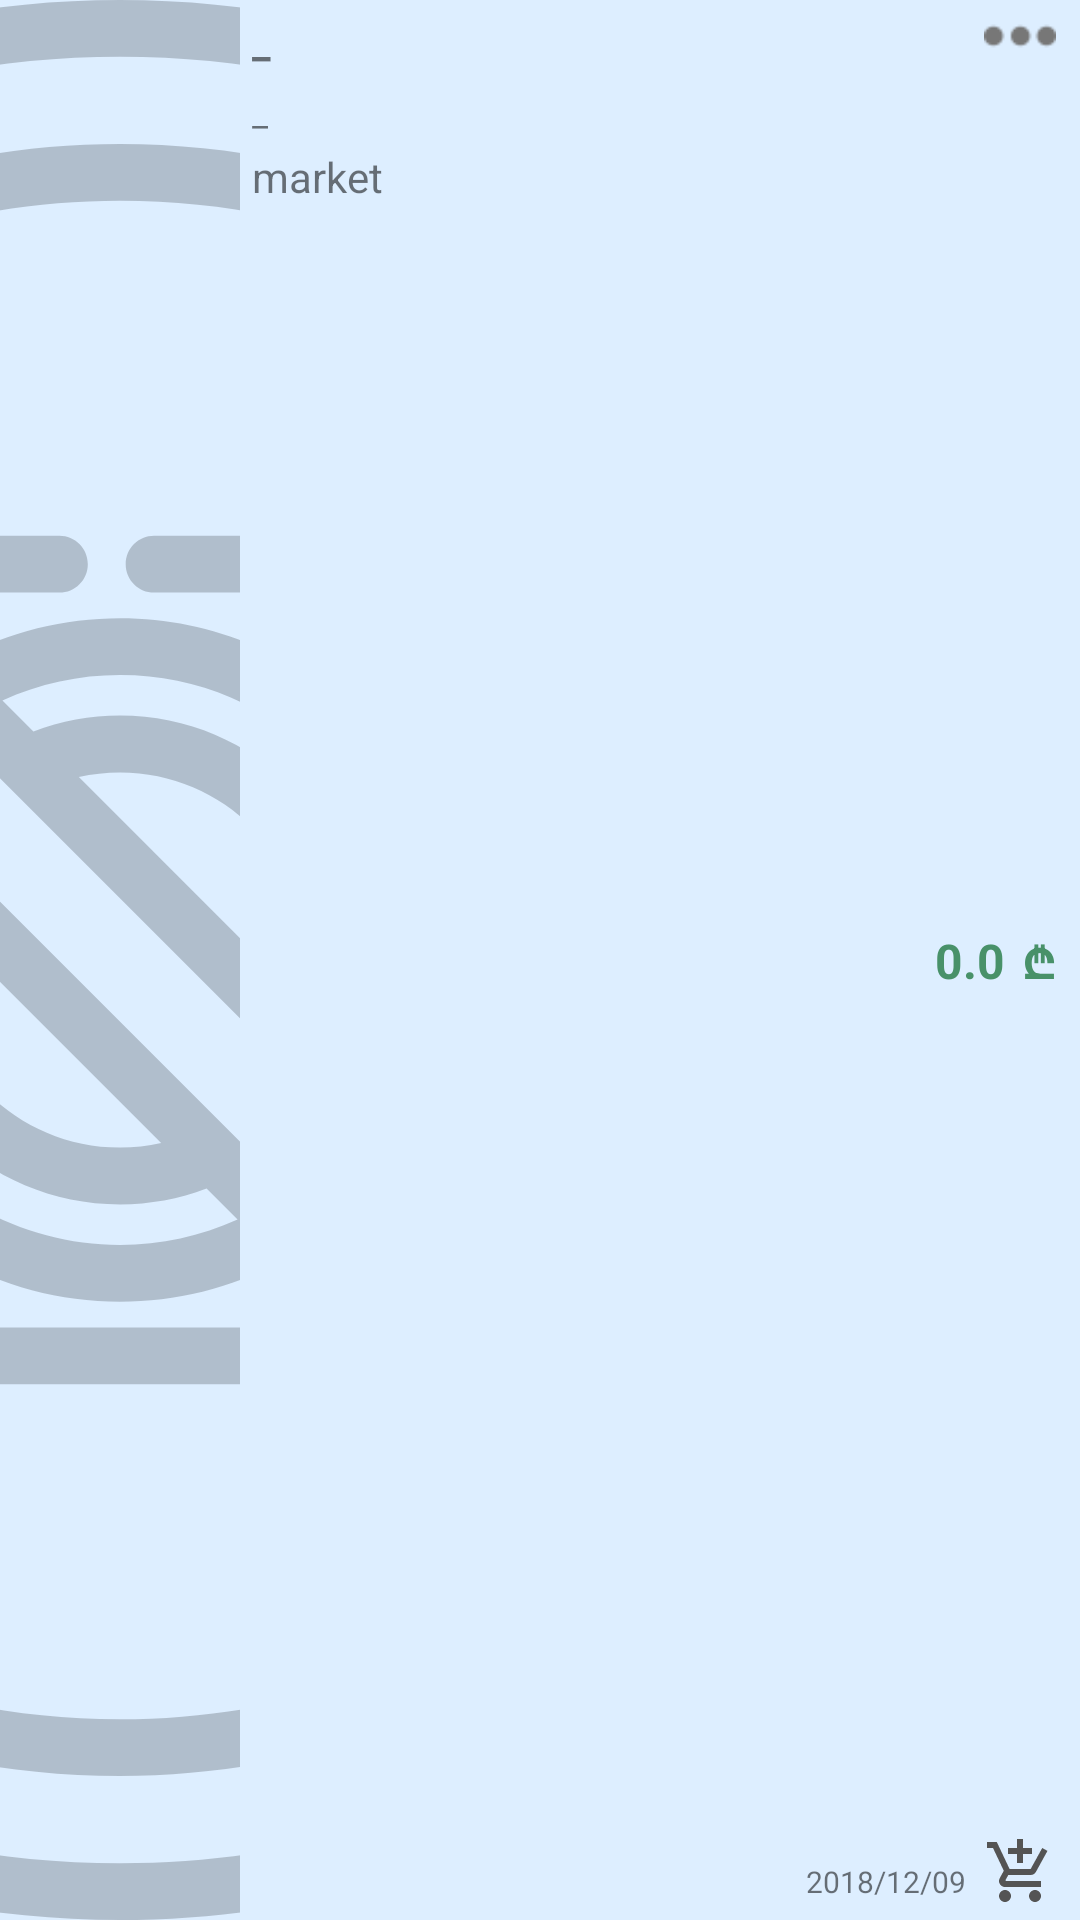

Named icons in this screenshot (1080px×1920px) and their centers, (x,y):
add shopping: (1017,1870)
three dots menu: (1020,36)
